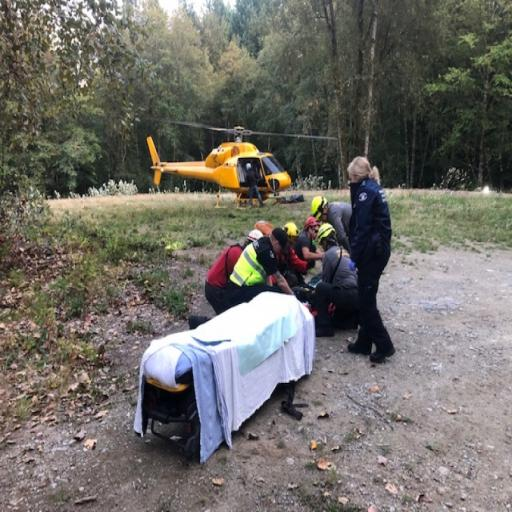helicopter: (140, 113, 341, 211)
